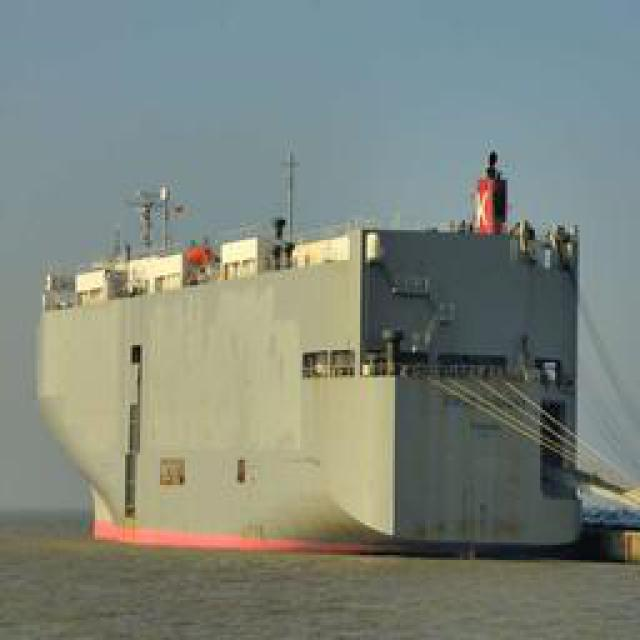Ship: (18, 112, 613, 566)
